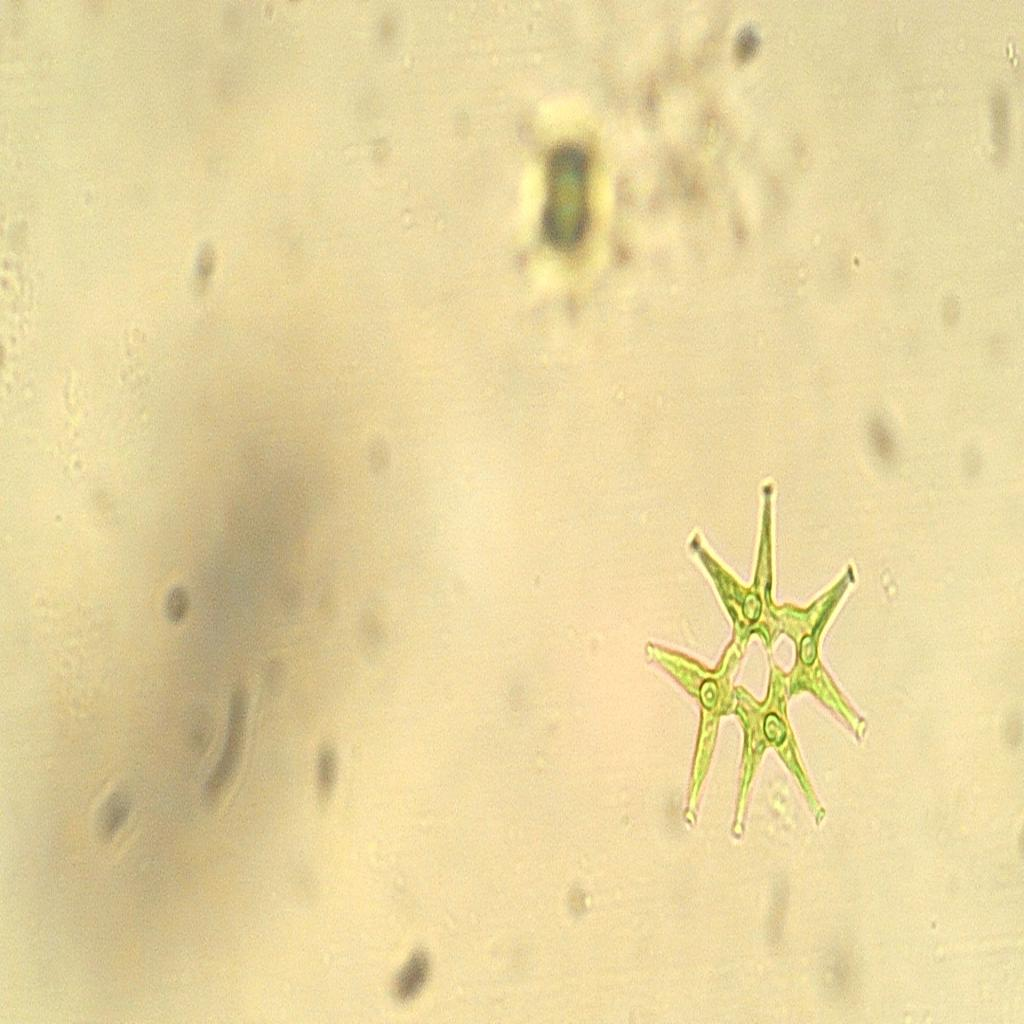Pediastrum_CF: (637, 464, 883, 862)
